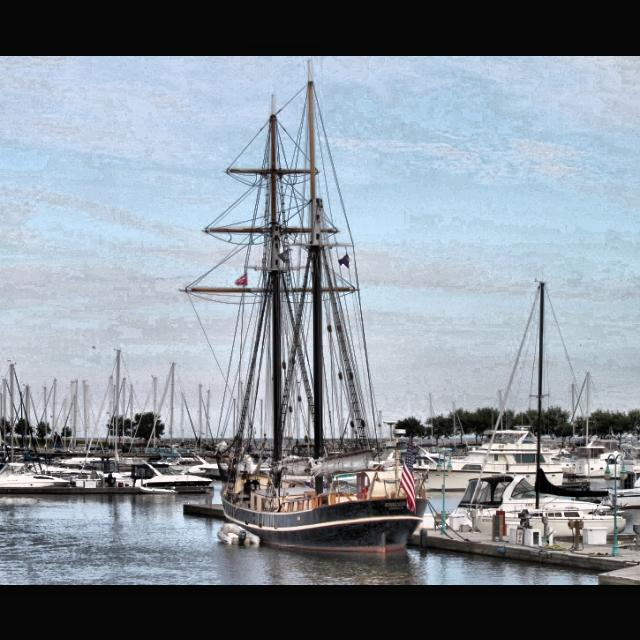sailing_vessel: (178, 58, 430, 556)
